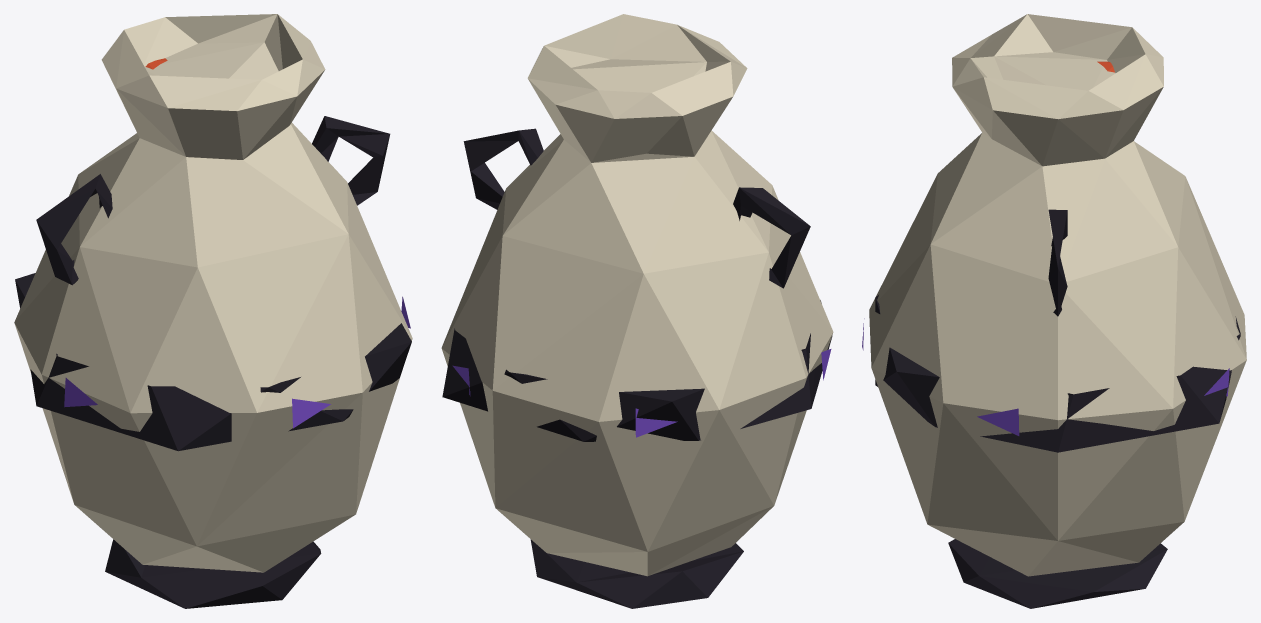
Rendered from destructible_urn_lod1.obj.
The picture shows the model from 3 angles, left to right: view 1: azimuth 30°, elevation 25°; view 2: azimuth 150°, elevation 25°; view 3: azimuth 270°, elevation 25°; orthographic projection.
Parts seen in each view (by area): view 1: destructible_urn_lod1; view 2: destructible_urn_lod1; view 3: destructible_urn_lod1.
Part boxes in pixels (x1,y1,x2,y2): destructible_urn_lod1: (14,14,412,608); destructible_urn_lod1: (441,14,833,608); destructible_urn_lod1: (862,14,1246,608).
Bounding box in the file's own units: 0.636 × 0.9024 × 0.6051.
